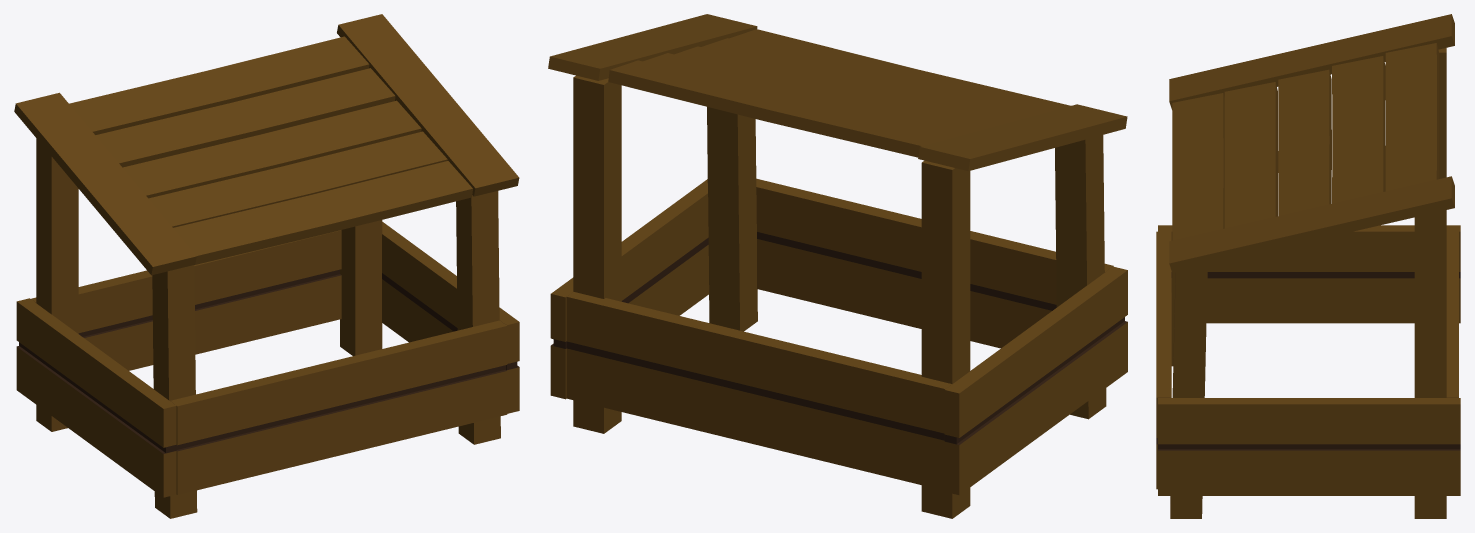
Rendered from StoneStock.fbx.
3 renders of one model, left to right at view 1: azimuth 30°, elevation 25°; view 2: azimuth 150°, elevation 25°; view 3: azimuth 270°, elevation 25°, orthographic. The views are drawn at different scales.
Parts seen in each view (by area): view 1: Stock; view 2: Stock; view 3: Stock.
Boxes of the visible parts, box(x1,y1,x2,y2) form: Stock: box(14, 14, 519, 518); Stock: box(548, 14, 1127, 518); Stock: box(1156, 14, 1460, 518).
Bounding box in the file's own units: 643 × 536 × 449.
